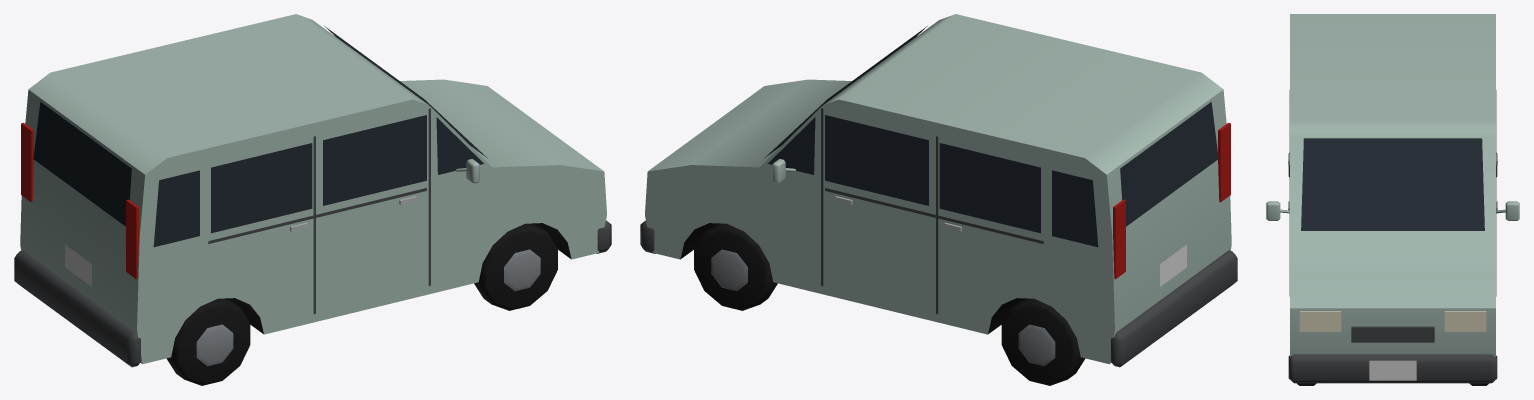
File: KeiCarKM.fbx
The picture shows the model from 3 angles, left to right: view 1: azimuth 30°, elevation 25°; view 2: azimuth 150°, elevation 25°; view 3: azimuth 270°, elevation 25°; orthographic projection. The views are drawn at different scales.
Parts seen in each view (by area): view 1: KeiCarKM; view 2: KeiCarKM; view 3: KeiCarKM.
Boxes of the visible parts, x1=… form: KeiCarKM: x1=14, y1=14, x2=611, y2=385; KeiCarKM: x1=640, y1=14, x2=1237, y2=385; KeiCarKM: x1=1266, y1=14, x2=1519, y2=385.
Size of the model in its own units: 3.55 by 1.69 by 1.82.
